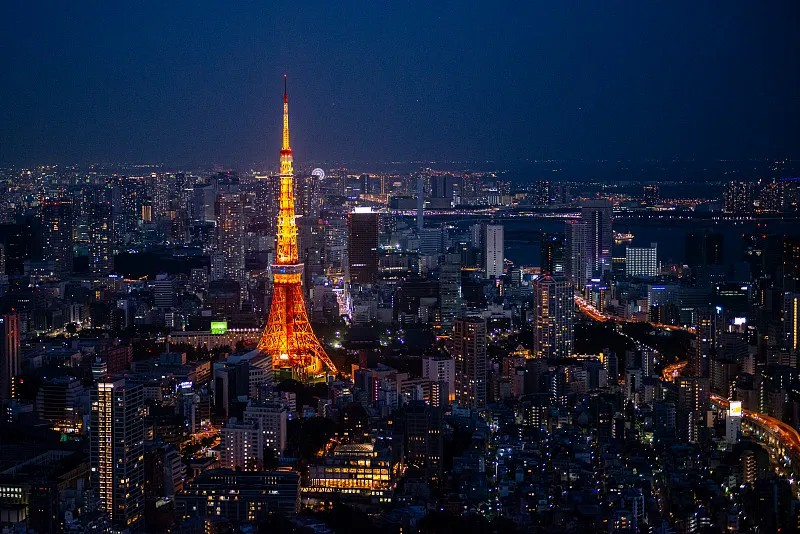Tokyo: (256, 72, 337, 383)
